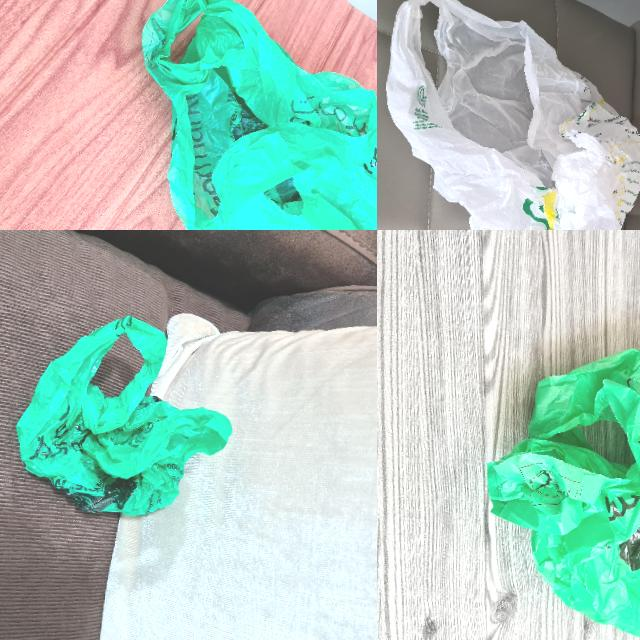sacola plástica: (377, 0, 640, 230), (128, 0, 377, 230), (475, 341, 640, 640), (0, 332, 182, 545)
